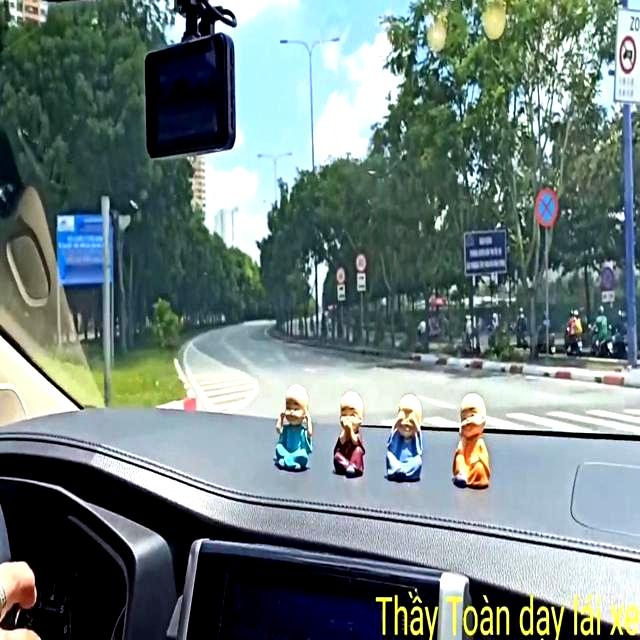Biển phụ: (356, 272, 366, 295), (337, 280, 347, 301)
Cấm các phương tiện hoạt động trong khung giờ cố định: (616, 8, 637, 106)
Cấm dừng - Cấm đỗ: (533, 186, 562, 234), (597, 260, 616, 287)
Giới hạn tốc độ: 60Km/h: (333, 263, 346, 281)
Giới hạn tốc độ: 80Km/h: (353, 251, 368, 272)
Khác: (54, 205, 114, 286), (462, 228, 510, 277)
